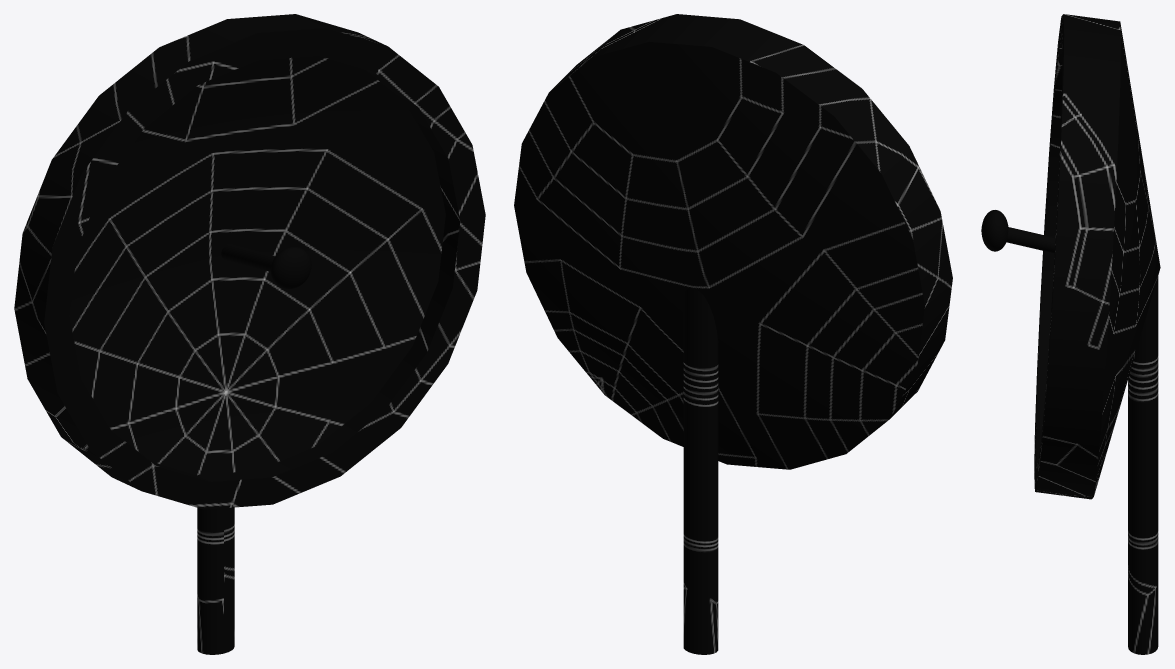
The model's file is Antenna.fbx.
3 views of the same model, side by side, from view 1: azimuth 30°, elevation 25°; view 2: azimuth 150°, elevation 25°; view 3: azimuth 270°, elevation 25° (orthographic). The views are drawn at different scales.
Parts seen in each view (by area): view 1: RadarPost1; view 2: RadarPost1; view 3: RadarPost1.
Boxes of the visible parts, bbox=[...] form: RadarPost1: bbox=[14, 14, 485, 654]; RadarPost1: bbox=[514, 14, 952, 654]; RadarPost1: bbox=[981, 14, 1160, 654].
Size of the model in its own units: 64.26 by 89.74 by 23.81.
1 material, 1 textured.
